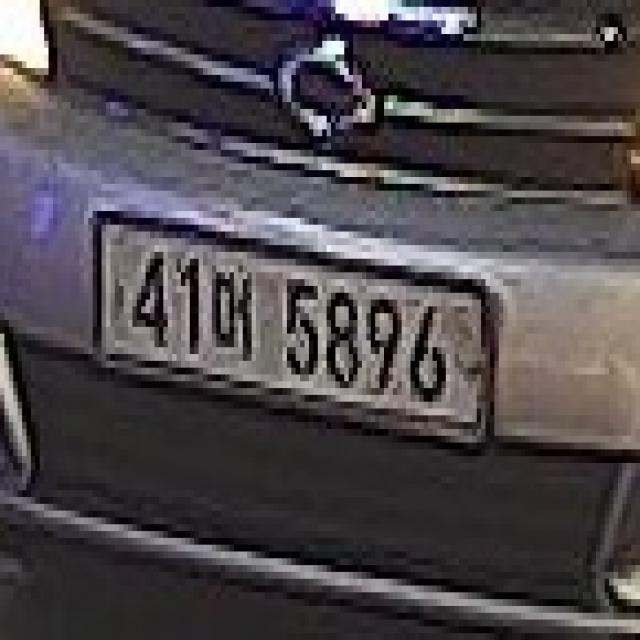1: (176, 252, 208, 354)
4: (128, 245, 172, 354)
5: (278, 279, 322, 381)
6: (406, 306, 450, 408)
8: (322, 279, 362, 388)
9: (362, 293, 402, 395)
license_plate: (84, 204, 485, 436)
meo: (208, 265, 252, 361)
